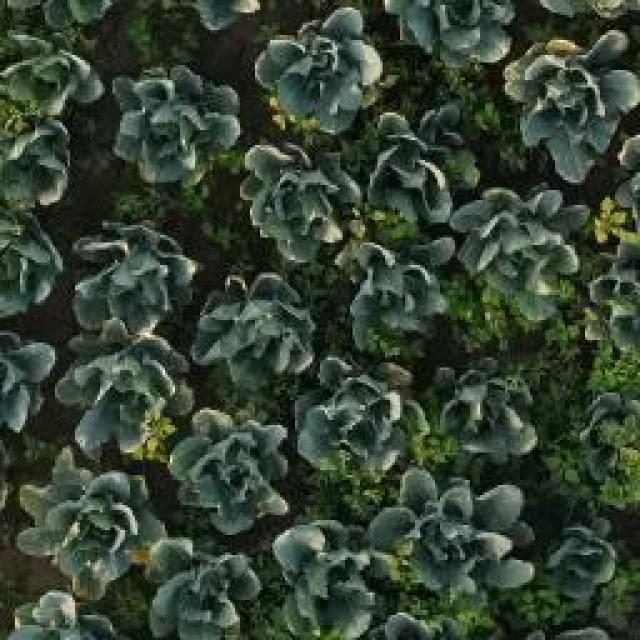cabbage: (16, 449, 166, 596), (506, 26, 638, 182), (375, 468, 533, 594), (55, 321, 196, 453), (253, 3, 387, 132), (296, 352, 430, 480), (234, 137, 364, 266), (107, 59, 240, 182), (172, 406, 293, 536), (190, 268, 318, 390), (67, 214, 198, 331), (338, 235, 462, 353), (455, 185, 580, 302), (359, 98, 470, 229), (269, 518, 384, 640), (147, 532, 265, 640), (432, 362, 544, 462), (0, 18, 105, 124), (387, 0, 515, 70), (541, 507, 626, 597), (0, 207, 65, 321), (575, 383, 640, 489)
